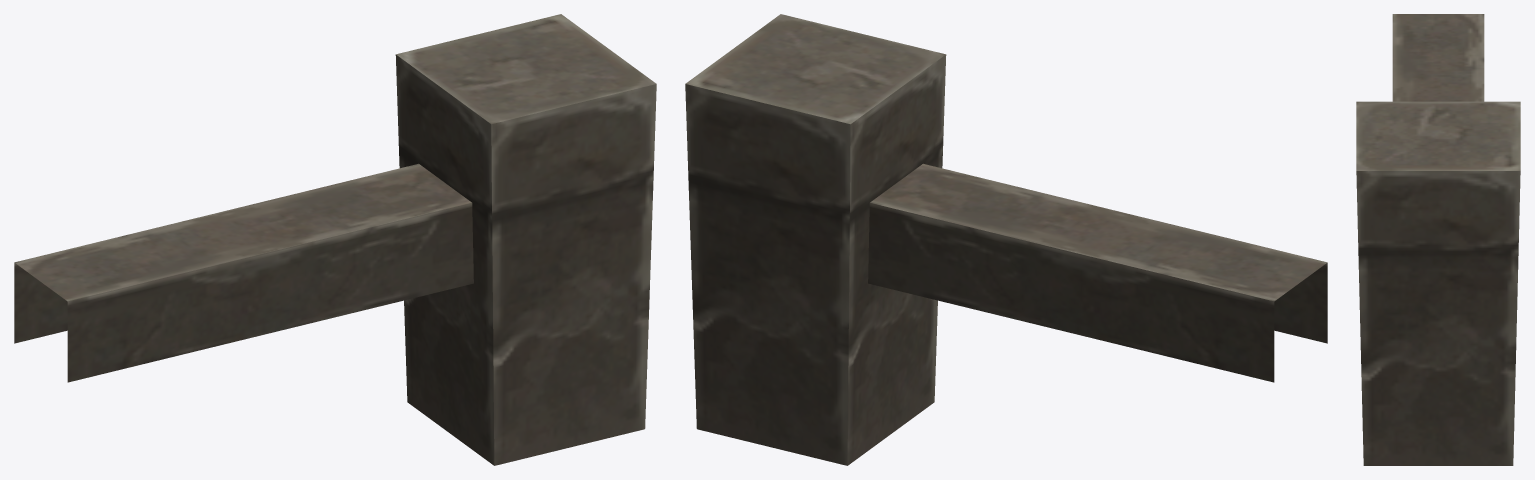
The model's file is building_city_matouzhuzi1.FBX.
The picture shows the model from 3 angles, left to right: view 1: azimuth 30°, elevation 25°; view 2: azimuth 150°, elevation 25°; view 3: azimuth 270°, elevation 25°; orthographic projection. The views are drawn at different scales.
Visible parts, largest first — view 1: building_city_matouzhuzi1; view 2: building_city_matouzhuzi1; view 3: building_city_matouzhuzi1.
Part boxes in pixels (box(x1,y1,x2,y2)): building_city_matouzhuzi1: box(14, 14, 656, 465); building_city_matouzhuzi1: box(685, 14, 1327, 465); building_city_matouzhuzi1: box(1356, 14, 1520, 465).
Size of the model in its own units: 2.19 by 0.6364 by 1.27.
